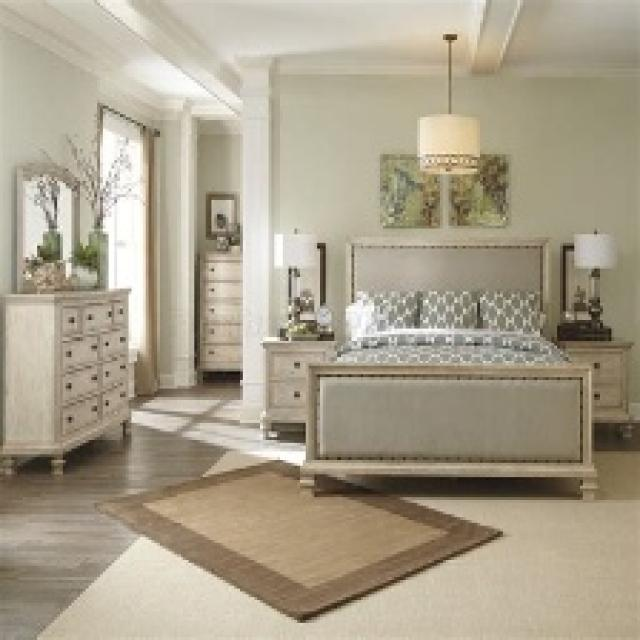Bed: (297, 234, 597, 500)
